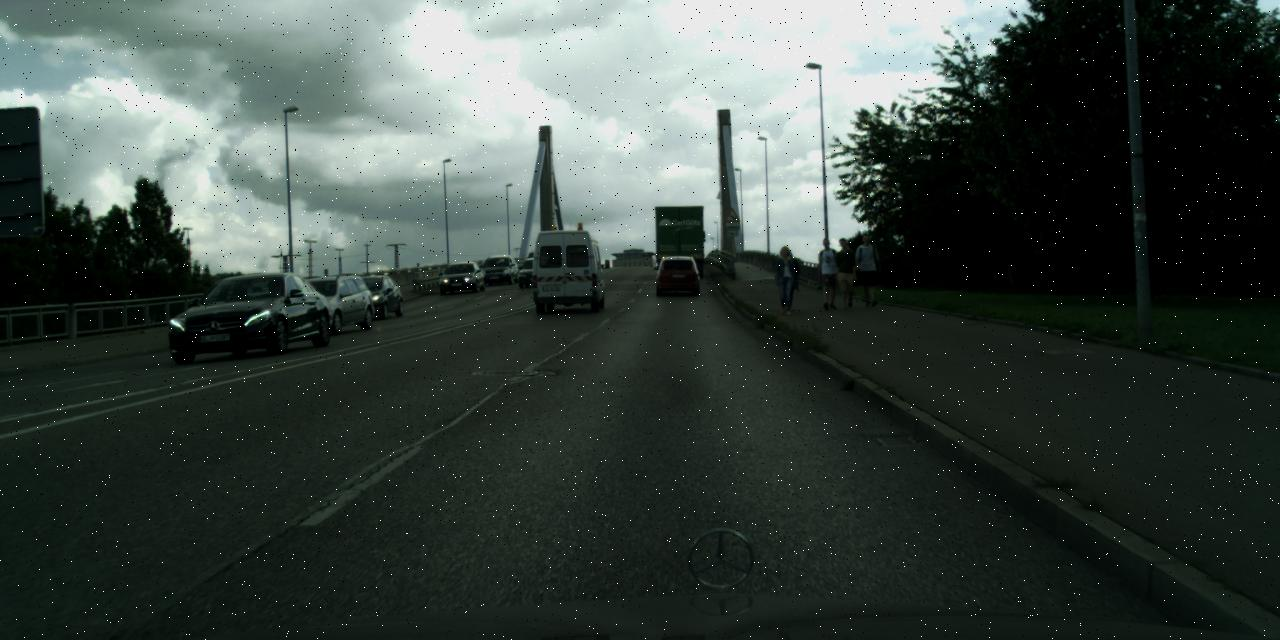ped: (852, 233, 882, 306), (812, 238, 842, 308), (830, 238, 860, 308), (771, 245, 799, 313)
